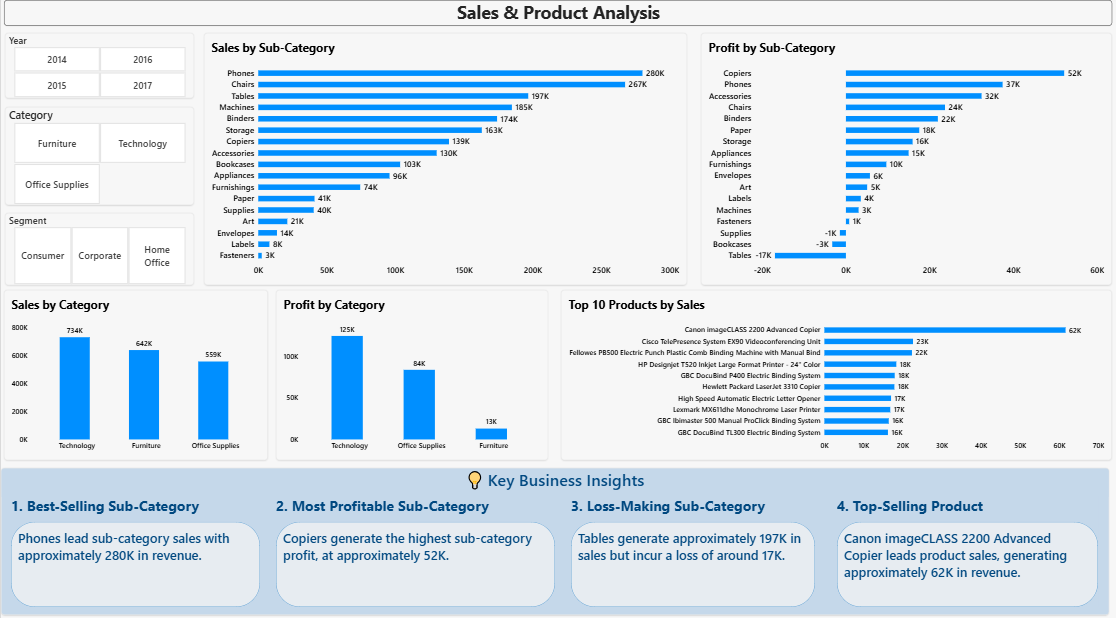

The page's visual inventory and layout, read from the dashboard file:
{"tool":"powerbi","page":{"name":"Sales & Product Analysis","canvas":[2560,1440],"ordinal":1},"visuals":[{"type":"textbox","title":"Sales & Product Analysis","box":[6.9,9.1,2532.6,59.4],"z":0},{"type":"clusteredBarChart","title":"Sales by Sub-Category","fields":{"Category":["Dim_Product.Sub-Category"],"Y":["All Measures.Total Sales"]},"box":[464,84.6,1104,576],"z":1000},{"type":"clusteredBarChart","title":"Profit by Sub-Category","fields":{"Category":["Dim_Product.Sub-Category"],"Y":["All Measures.Total Profit"]},"box":[1600,84.6,939.4,576],"z":2000},{"type":"clusteredColumnChart","title":"Sales by Category","fields":{"Category":["Dim_Product.Category"],"Y":["All Measures.Total Sales"]},"box":[6.9,672,603.4,388.6],"z":3000},{"type":"clusteredColumnChart","title":"Profit by Category","fields":{"Category":["Dim_Product.Category"],"Y":["All Measures.Total Profit"]},"box":[628.6,672,621.7,388.6],"z":4000},{"type":"clusteredBarChart","title":"Top 10 Products by Sales","fields":{"Category":["Retail Sales Analytics Dashboard.Product Name"],"Y":["All Measures.Total Sales"]},"box":[1280,672,1259.4,388.6],"z":5000},{"type":"slicer","fields":{"Values":["Dim_Date.Year"]},"box":[9.1,84.6,432,148.6],"z":6000},{"type":"slicer","fields":{"Values":["Dim_Product.Category"]},"box":[9.1,253.7,432,224],"z":7000},{"type":"slicer","fields":{"Values":["Dim_Customer.Segment"]},"box":[9.1,496,432,164.6],"z":8000},{"type":"textbox","title":"💡 Key Business Insights","box":[0,1078.9,2532.6,336],"z":9000},{"type":"shape","title":"1. Best-Selling Sub-Category","box":[22.9,1142.9,569.1,253.7],"z":10000},{"type":"shape","title":"2. Most Profitable Sub-Category","box":[628.6,1142.9,637.7,253.7],"z":11000},{"type":"shape","title":"3. Loss-Making Sub-Category","box":[1302.9,1142.9,557.7,253.7],"z":12000},{"type":"shape","title":"4. Top-Selling Product","box":[1910.9,1142.9,596.6,253.7],"z":13000}]}

Visuals, with their boxes in screenshot pixels (x1, y1, x2, y2), scaled from the page's 2560x1440 canvas onto the 1116x618 screenshot:
"Sales & Product Analysis" textbox: 3:4:1107:29
"Sales by Sub-Category" clusteredBarChart: 202:36:684:284
"Profit by Sub-Category" clusteredBarChart: 698:36:1107:284
"Sales by Category" clusteredColumnChart: 3:288:266:455
"Profit by Category" clusteredColumnChart: 274:288:545:455
"Top 10 Products by Sales" clusteredBarChart: 558:288:1107:455
slicer - Dim_Date.Year: 4:36:192:100
slicer - Dim_Product.Category: 4:109:192:205
slicer - Dim_Customer.Segment: 4:213:192:284
"💡 Key Business Insights" textbox: 0:463:1104:607
"1. Best-Selling Sub-Category" shape: 10:490:258:599
"2. Most Profitable Sub-Category" shape: 274:490:552:599
"3. Loss-Making Sub-Category" shape: 568:490:811:599
"4. Top-Selling Product" shape: 833:490:1093:599
